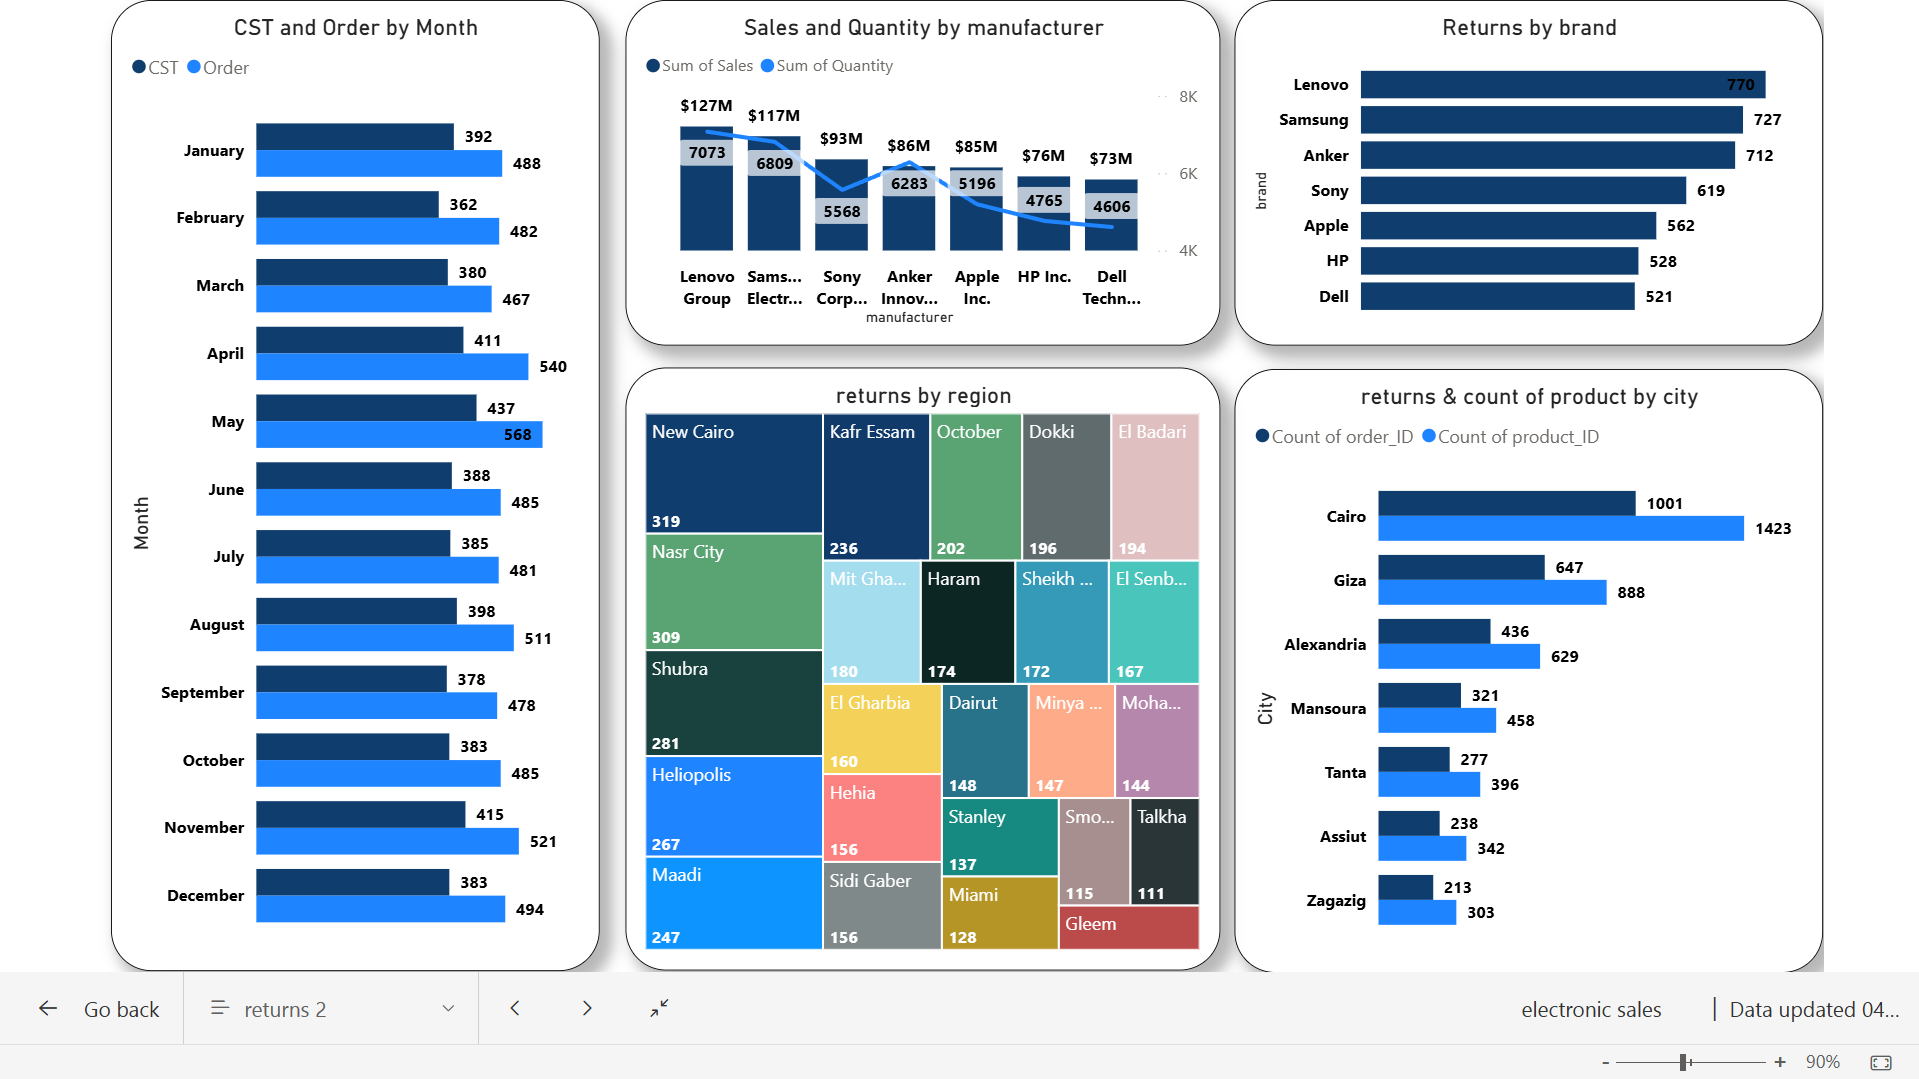

Layout of this report page (visuals, bound fields, positions):
{"tool":"powerbi","page":{"name":"returns 2","canvas":[1280,720],"ordinal":4},"visuals":[{"type":"clusteredBarChart","fields":{"Category":["Orders.order_date.Variation.Date Hierarchy.Month","Orders.order_date.Variation.Date Hierarchy.Day"],"Y":["Count(Orders.customer_ID)","Count(Orders.order_ID)"]},"box":[10.6,0,361.9,719.2],"z":0},{"type":"lineStackedColumnComboChart","title":"Sales and Quantity by manufacturer","fields":{"Category":["Products.manufacturer"],"Y":["Sum(Orders.Sales)"],"Y2":["Sum(Orders.Quantity)"]},"box":[392.2,0,440.6,255.9],"z":1000},{"type":"treemap","fields":{"Group":["Customers.region"],"Values":["CountNonNull(Returns.product_ID)"]},"box":[392.2,272.6,440.6,446.7],"z":2000},{"type":"clusteredBarChart","fields":{"Category":["Products.brand"],"Y":["CountNonNull(Returns.product_ID)"]},"box":[843.4,0,436.1,255.9],"z":3000},{"type":"clusteredBarChart","title":"returns & count of product by city","fields":{"Category":["Customers.City"],"Y":["Count(Returns.order_ID)","CountNonNull(Returns.product_ID)"]},"box":[843,273,436,447],"z":4000}]}

Visuals, with their boxes on the page's 1280x720 design canvas (x1, y1, x2, y2). These are canvas units, not pixel positions in the 1919x1079 screenshot, which may show the page scaled, cropped or inside an application window:
clusteredBarChart - Orders.order_date.Variation.Date Hierarchy.Month x Orders.order_date.Variation.Date Hierarchy.Day: (11, 0, 372, 719)
"Sales and Quantity by manufacturer" lineStackedColumnComboChart: (392, 0, 833, 256)
treemap - Customers.region x CountNonNull(Returns.product_ID): (392, 273, 833, 719)
clusteredBarChart - Products.brand x CountNonNull(Returns.product_ID): (843, 0, 1280, 256)
"returns & count of product by city" clusteredBarChart: (843, 273, 1279, 720)
